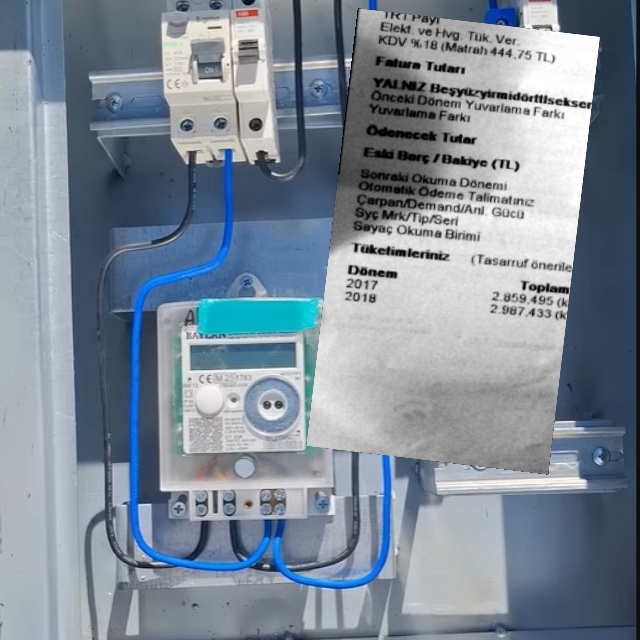electricity-bill: (305, 8, 599, 475)
